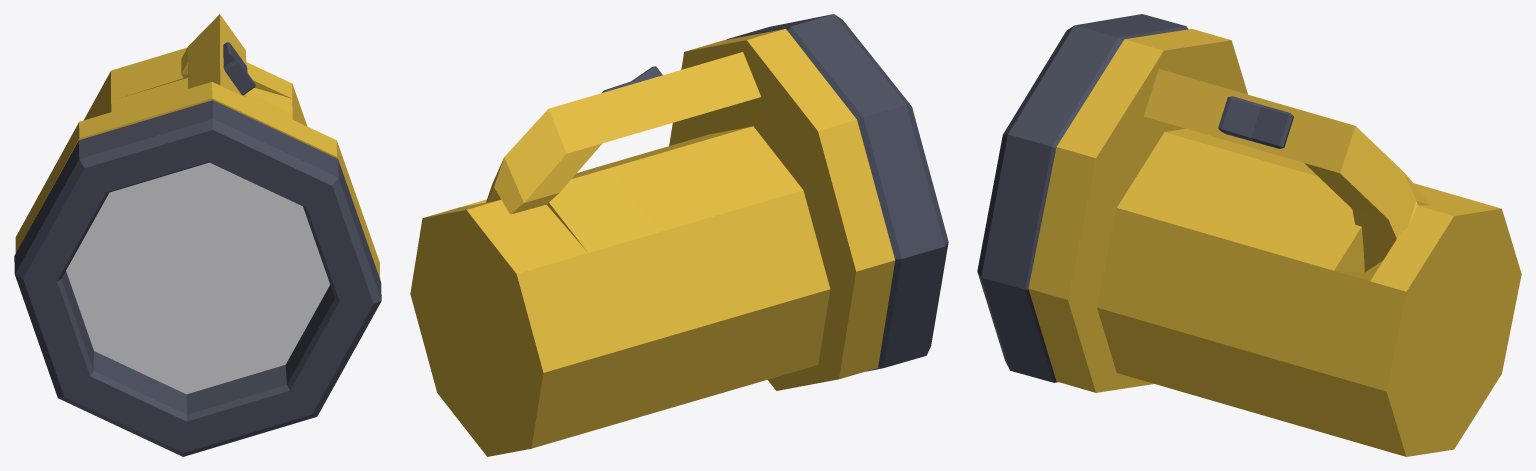
File: Flashlight_low_poly.fbx
3 renders of one model, left to right at view 1: azimuth 30°, elevation 25°; view 2: azimuth 150°, elevation 25°; view 3: azimuth 270°, elevation 25°, orthographic. The views are drawn at different scales.
Visible parts, largest first — view 1: Rim1.002, Glass1.002, Handle1.002, Switch1.002; view 2: Handle1.002, Rim1.002; view 3: Handle1.002, Rim1.002, Switch1.002.
Part boxes in pixels (x1,y1,x2,y2): Rim1.002: (14,100,381,456); Glass1.002: (66,162,329,394); Handle1.002: (15,14,380,279); Switch1.002: (223,42,255,95); Handle1.002: (410,28,895,456); Rim1.002: (726,14,948,371); Handle1.002: (1028,29,1521,456); Rim1.002: (977,14,1188,382); Switch1.002: (1218,96,1293,148).
Size of the model in its own units: 117 by 90.74 by 128.
